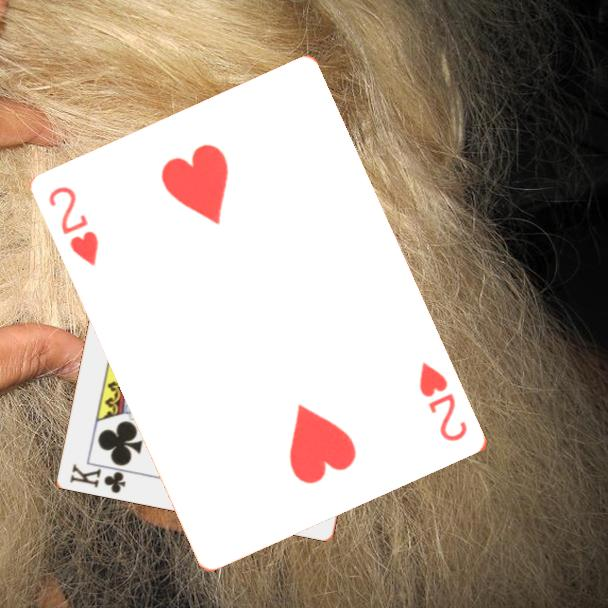c13: (67, 460, 129, 496)
h02: (45, 183, 102, 269), (416, 358, 471, 445)
